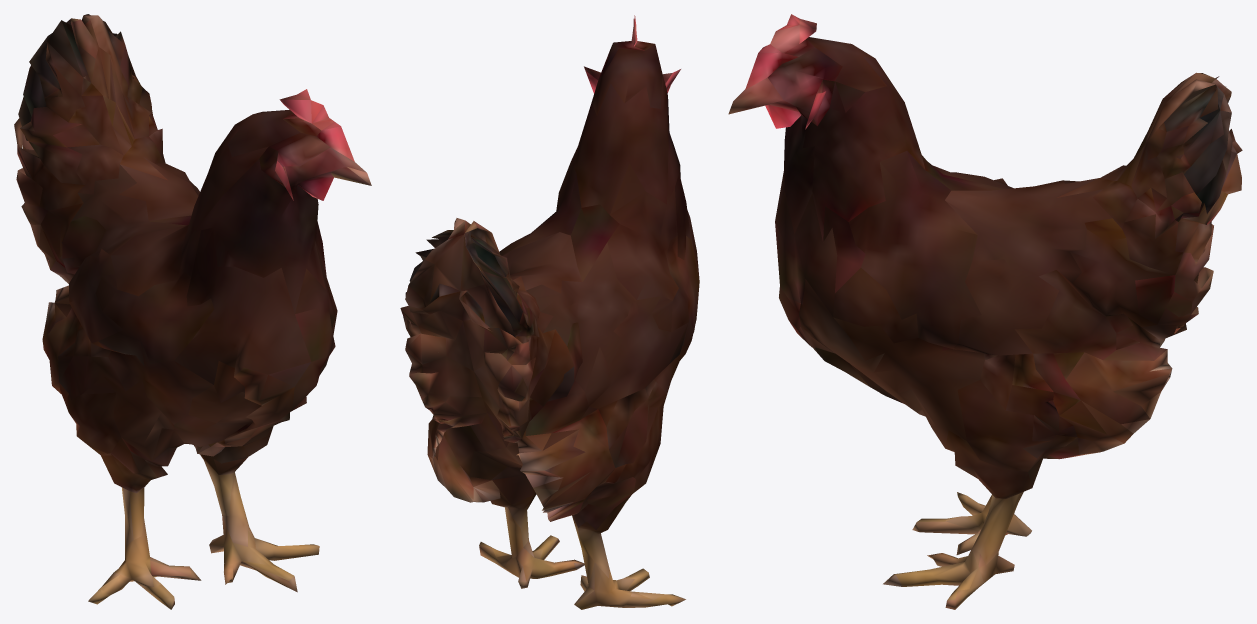
The model's file is chicken.glb.
The picture shows the model from 3 angles, left to right: view 1: azimuth 30°, elevation 25°; view 2: azimuth 150°, elevation 25°; view 3: azimuth 270°, elevation 25°; orthographic projection. The views are drawn at different scales.
Parts seen in each view (by area): view 1: LO.001; view 2: LO.001; view 3: LO.001.
Part boxes in pixels (<box>): LO.001: <box>14,14,371,609</box>; LO.001: <box>400,15,699,609</box>; LO.001: <box>728,14,1242,609</box>.
Bounding box in the file's own units: 0.1949 × 0.449 × 0.3774.
1 material, 1 textured.
